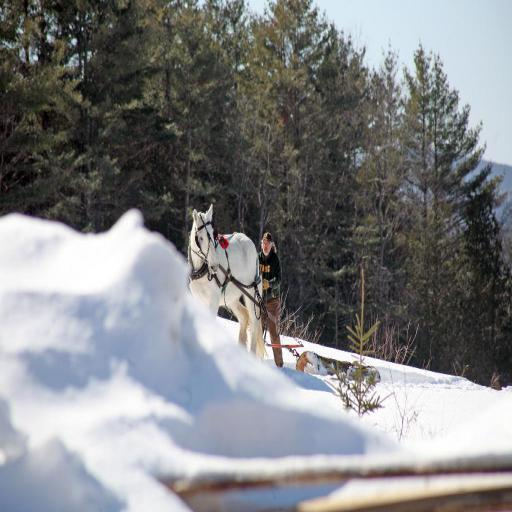horse: (186, 204, 270, 362)
